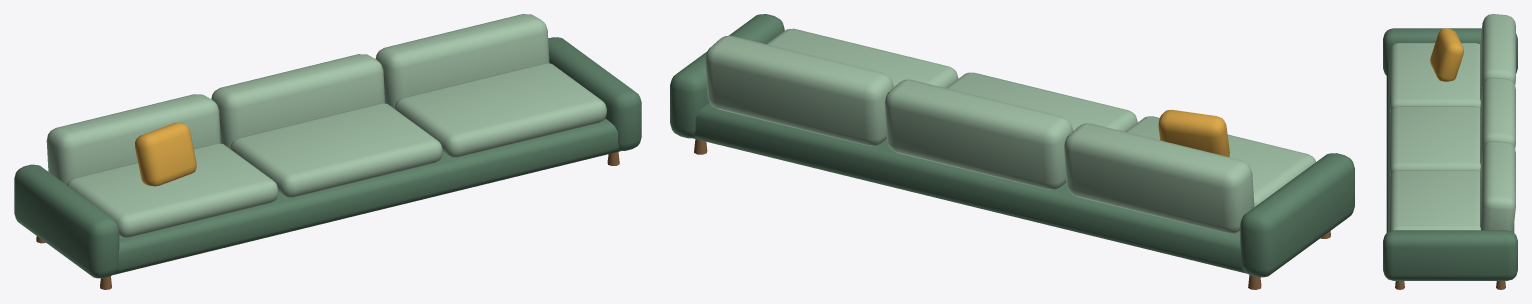
The model's file is sofa.glb.
3 renders of one model, left to right at view 1: azimuth 30°, elevation 25°; view 2: azimuth 150°, elevation 25°; view 3: azimuth 270°, elevation 25°, orthographic. The views are drawn at different scales.
Visible parts, largest first — view 1: sofa; view 2: sofa; view 3: sofa.
Part boxes in pixels (left/top/right/bottom): sofa: left=14, top=14, right=641, bottom=289; sofa: left=670, top=14, right=1354, bottom=289; sofa: left=1383, top=14, right=1517, bottom=289.
Bounding box in the file's own units: 3 × 0.5881 × 0.8.
Materials: 1 (1 with a texture image).
